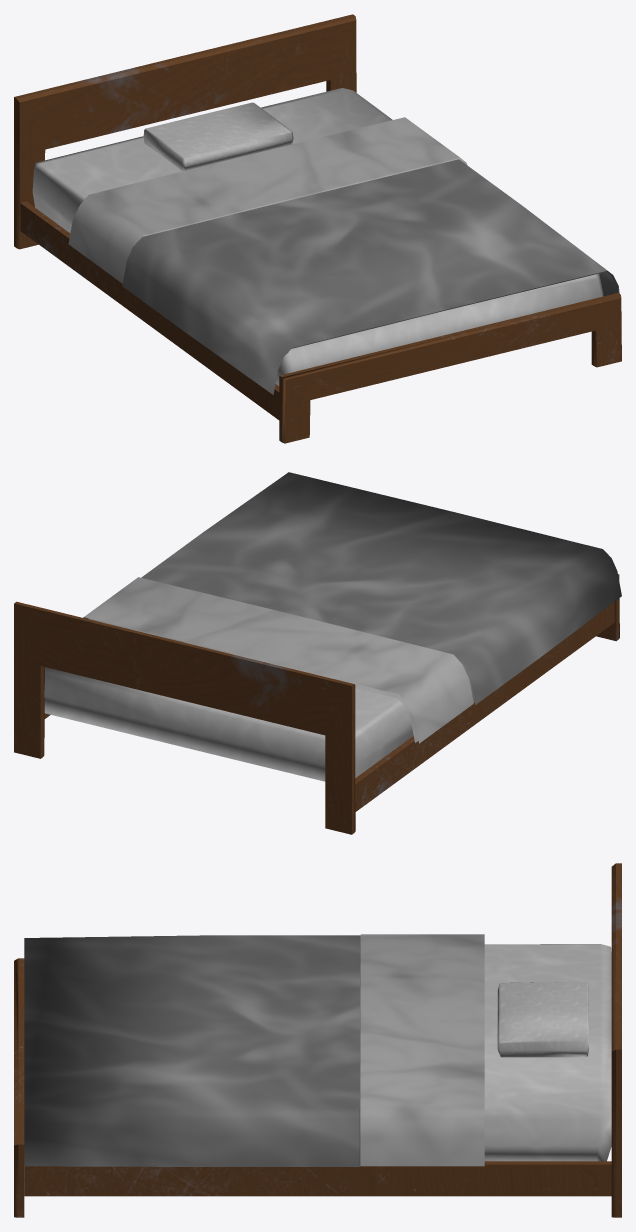
File: bed.fbx
3 views of the same model, one above another, from view 1: azimuth 30°, elevation 25°; view 2: azimuth 150°, elevation 25°; view 3: azimuth 270°, elevation 25° (orthographic). The views are drawn at different scales.
Visible parts, largest first — view 1: bed; view 2: bed; view 3: bed.
Part boxes in pixels (x1,y1,x2,y2): bed: [14, 14, 621, 443]; bed: [14, 472, 621, 834]; bed: [14, 863, 621, 1217].
Bounding box in the file's own units: 14.95 × 6.05 × 19.82.
1 material, 1 textured.
